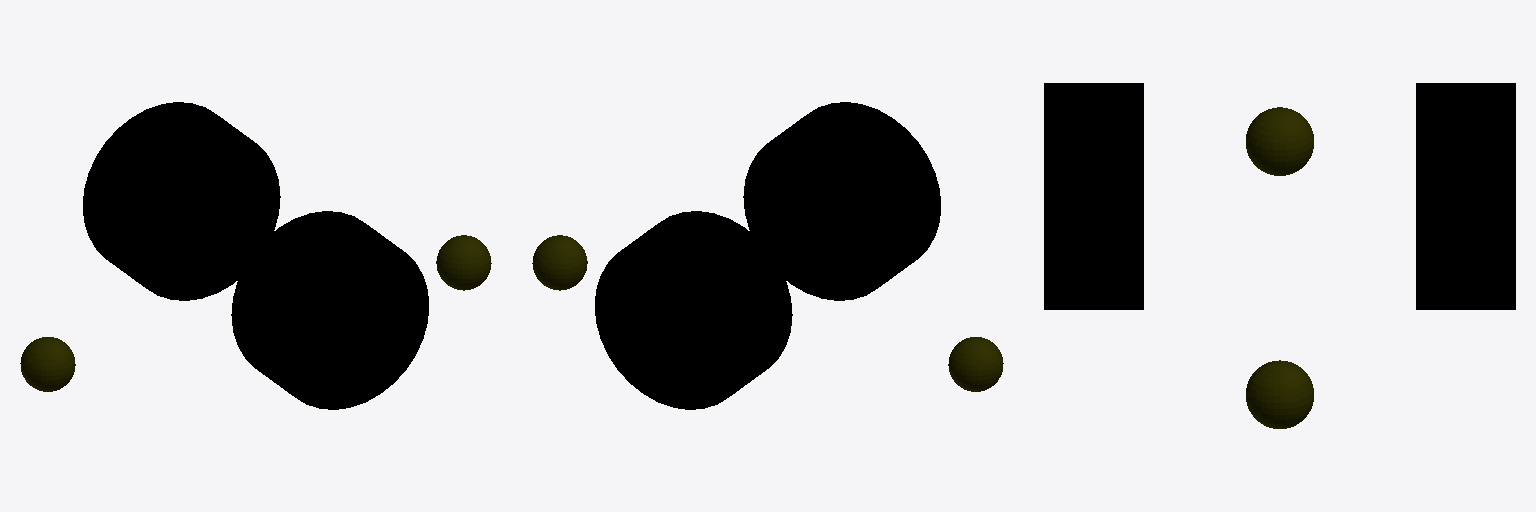
URDF robot description (carritoAP_real):
<robot name="carritoAP_real">
	<link name="base_link">
		<visual>
			<!-- Hight base 0.09014/2 + offset wheels 0.01305 -->
			<origin xyz="0 0 0.05812" rpy="0 0 0"/>
			<geometry>
				<mesh filename="package://mobile_base/dae/carritoAP.dae"/>
			</geometry>
			<material name="blue">
				<color rgba="0 0 1 0.5"/>
			</material>
		</visual>
	</link>

	<joint	name="left_wheel_joint_connect" type="fixed">
		<origin xyz="0 0.035155 0.02155" rpy="0 1.5708 1.5708"/>
		<parent link="base_link"/>
		<child link="left_wheel_link"/>
	</joint>

	<link name="left_wheel_link">
		<visual>
			<origin xyz="0 0 0" rpy="0 0 0"/>
			<geometry>
				<cylinder length="0.01889" radius="0.02155"/>
			</geometry>
			<material name="black">
				<color rgba="0 0 0 1"/>
			</material>
		</visual>
	</link>
	
	<joint	name="right_wheel_joint_connect" type="fixed">
		<origin xyz="0 -0.035155 0.02155" rpy="0 1.5708 1.5708"/>
		<parent link="base_link"/>
		<child link="right_wheel_link"/>
	</joint>

	<link name="right_wheel_link">
		<visual>
			<origin xyz="0 0 0" rpy="0 0 0"/>
			<geometry>
				<cylinder length="0.01889" radius="0.02155"/>
			</geometry>
			<material name="black">
				<color rgba="0 0 0 1"/>
			</material>
		</visual>
	</link>
	
	<joint	name="free_frontal_wheel_joint_connect" type="fixed">
		<origin xyz="0.056705 0 0.006525" rpy="0 0 0"/>
		<parent link="base_link"/>
		<child link="free_frontal_wheel_link"/>
	</joint>

	<link name="free_frontal_wheel_link">
		<visual>
			<origin xyz="0 0 0" rpy="0 0 0"/>
			<geometry>
				<sphere radius="0.006525"/>
			</geometry>
			<material name="grey1">
				<color rgba="0.2 0.2 0.02 1"/>
			</material>
		</visual>
	</link>
	
	<joint	name="free_rear_wheel_joint_connect" type="fixed">
		<origin xyz="-0.056705 0 0.006525" rpy="0 0 0"/>
		<parent link="base_link"/>
		<child link="free_rear_wheel_link"/>
	</joint>

	<link name="free_rear_wheel_link">
		<visual>
			<origin xyz="0 0 0" rpy="0 0 0"/>
			<geometry>
				<sphere radius="0.006525"/>
			</geometry>
			<material name="grey1">
				<color rgba="0.2 0.2 0.02 1"/>
			</material>
		</visual>
	</link>

	<link name="laser_link"/>

	<joint name="laser_joint" type="fixed">
	    <parent link="base_link"/>
	    <child link="laser_link"/>

	    <origin xyz="0.06323 0 0.04" rpy="0 0 0"/>
	    <axis xyz="0 0 0" rpy="0 0 0"/>
	</joint>

</robot>

--- Render facts (derived) ---
Views: 3 orthographic renders of the robot side by side, from view 1: azimuth 30°, elevation 25°; view 2: azimuth 150°, elevation 25°; view 3: azimuth 270°, elevation 25°.
Model carritoAP_real with 6 links and 5 joints (5 fixed), rooted at base_link, posed every joint at zero.
Visible links, largest first — view 1: right_wheel_link, left_wheel_link, free_rear_wheel_link, free_frontal_wheel_link; view 2: left_wheel_link, right_wheel_link, free_rear_wheel_link, free_frontal_wheel_link; view 3: left_wheel_link, right_wheel_link, free_frontal_wheel_link, free_rear_wheel_link.
Boxes of the visible links, x1,y1,x2,y2 form: right_wheel_link: (231, 211, 428, 409); left_wheel_link: (83, 102, 280, 300); free_rear_wheel_link: (20, 337, 75, 391); free_frontal_wheel_link: (436, 235, 491, 290); left_wheel_link: (595, 211, 792, 409); right_wheel_link: (743, 102, 940, 300); free_rear_wheel_link: (948, 337, 1003, 391); free_frontal_wheel_link: (532, 235, 587, 290); left_wheel_link: (1416, 83, 1515, 309); right_wheel_link: (1044, 83, 1143, 309); free_frontal_wheel_link: (1246, 360, 1313, 428); free_rear_wheel_link: (1246, 107, 1313, 175).
Bounding box of the posed robot: 0.1265 × 0.0892 × 0.0431 m (x, y, z).
Meshes: 1 distinct files referenced, 0 mesh visuals loaded (none loaded); not drawn: 1 (reference not matched to a file when rendering).